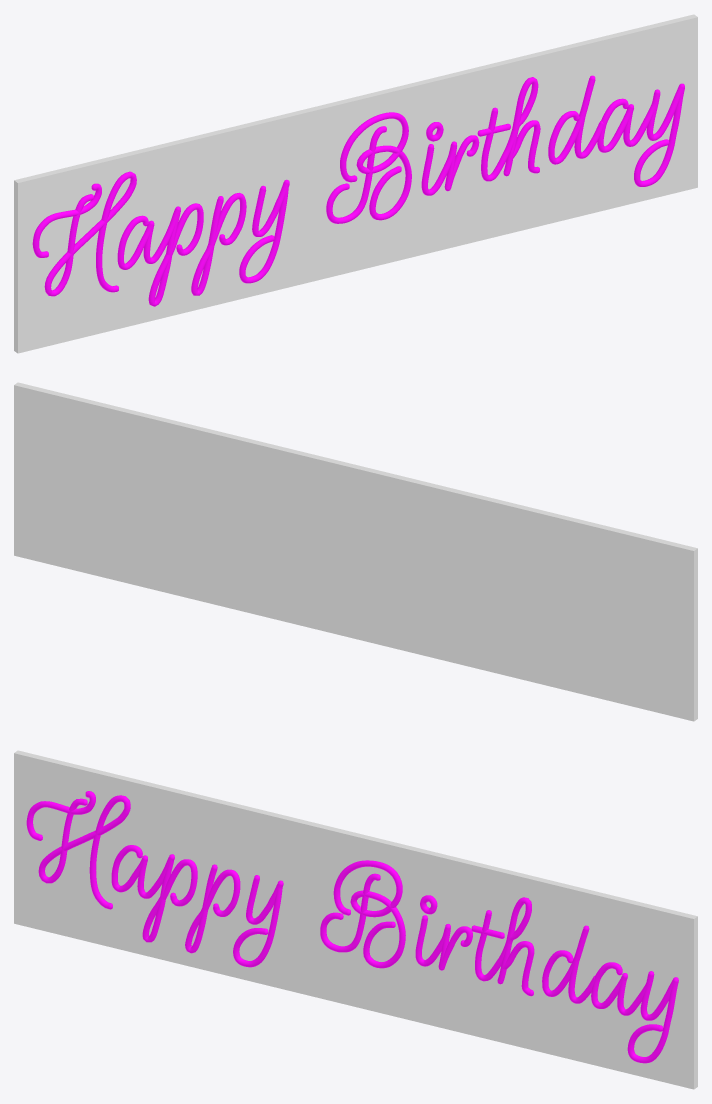
File: ハッピーバースデイ.glb
3 views of the same model, one above another, from view 1: azimuth 30°, elevation 25°; view 2: azimuth 150°, elevation 25°; view 3: azimuth 330°, elevation 25° (orthographic).
Size of the model in its own units: 710 by 170 by 12.
